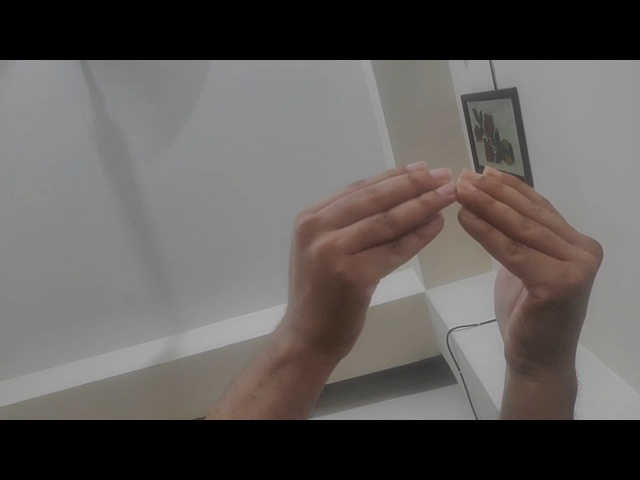Thank you: (265, 157, 615, 368)
